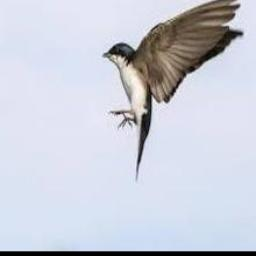Swallow: (104, 0, 244, 182)
